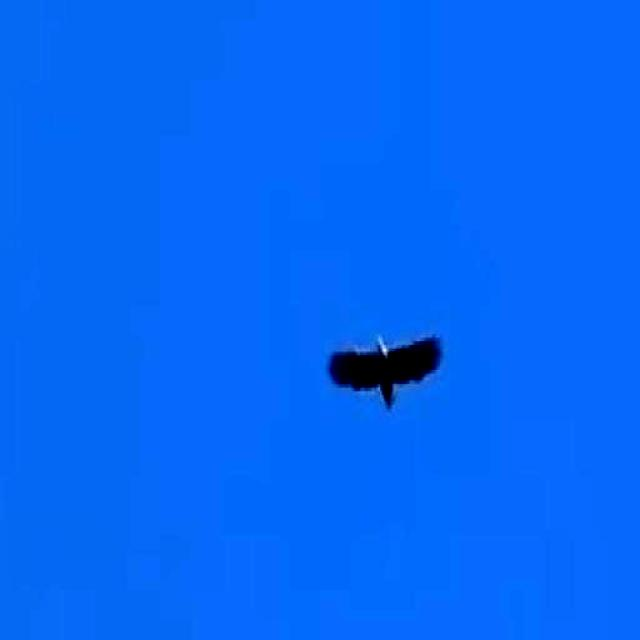airplane: (312, 306, 454, 450)
